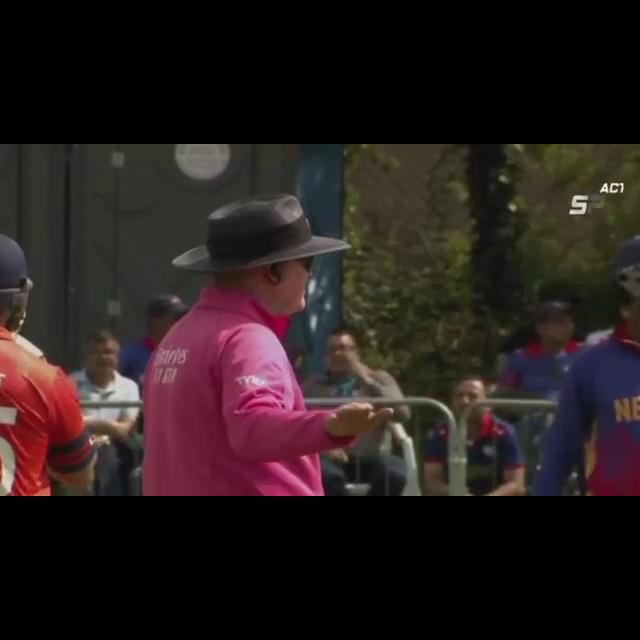umpire: (120, 171, 423, 496)
